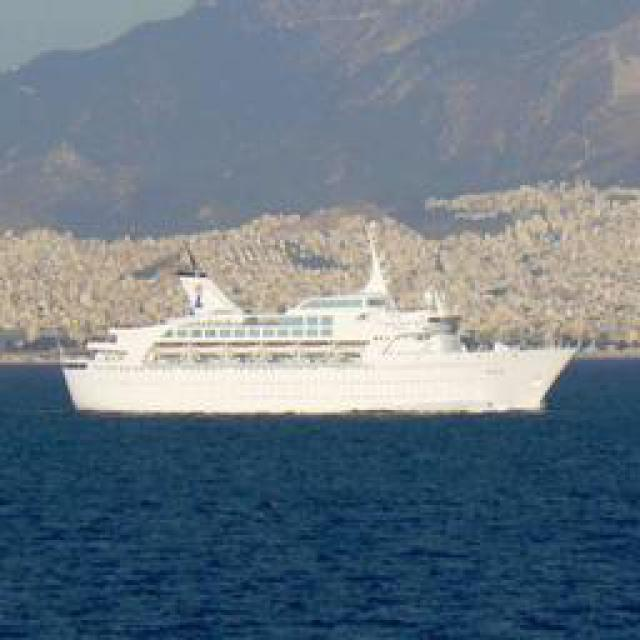Ship: (71, 325, 574, 425)
